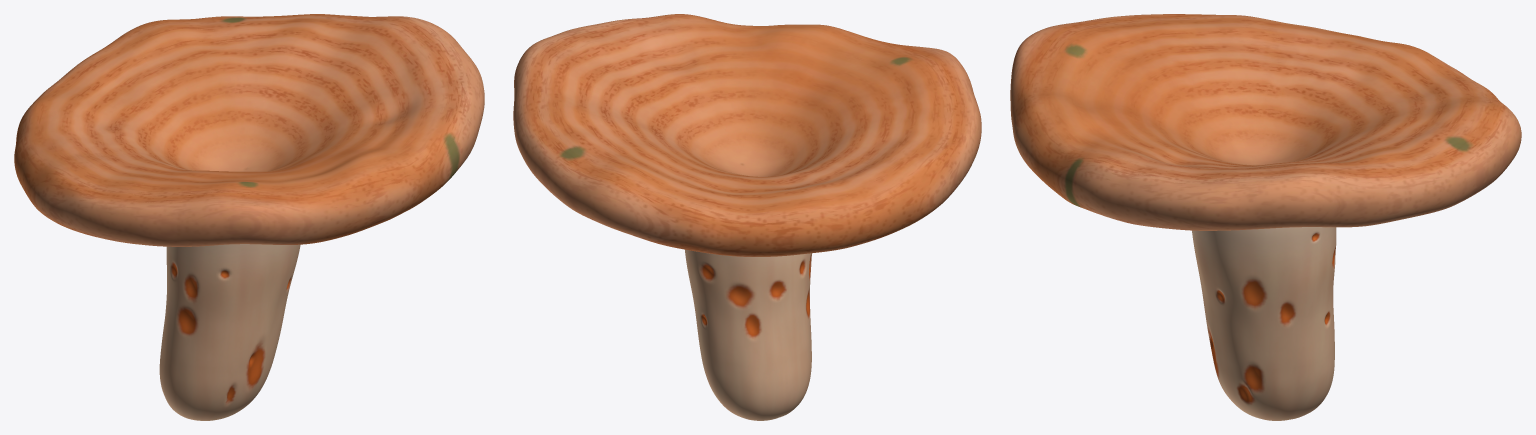
The model's file is lactarius-deliciosus.glb.
The picture shows the model from 3 angles, left to right: view 1: azimuth 30°, elevation 25°; view 2: azimuth 150°, elevation 25°; view 3: azimuth 270°, elevation 25°; orthographic projection. The views are drawn at different scales.
Visible parts, largest first — view 1: cap, stem; view 2: cap, stem; view 3: cap, stem.
Part boxes in pixels (<box>): cap: <box>14,14,484,246</box>; stem: <box>159,244,300,420</box>; cap: <box>513,14,981,256</box>; stem: <box>685,249,811,420</box>; cap: <box>1010,14,1521,230</box>; stem: <box>1192,227,1336,420</box>.
Bounding box in the file's own units: 0.1045 × 0.0781 × 0.1016.
Materials: 4 (4 with a texture image).
